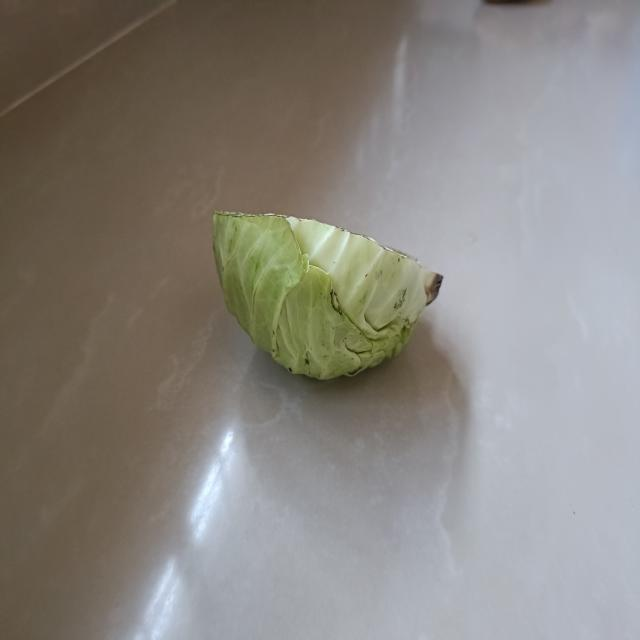cabbage: (215, 204, 440, 377)
